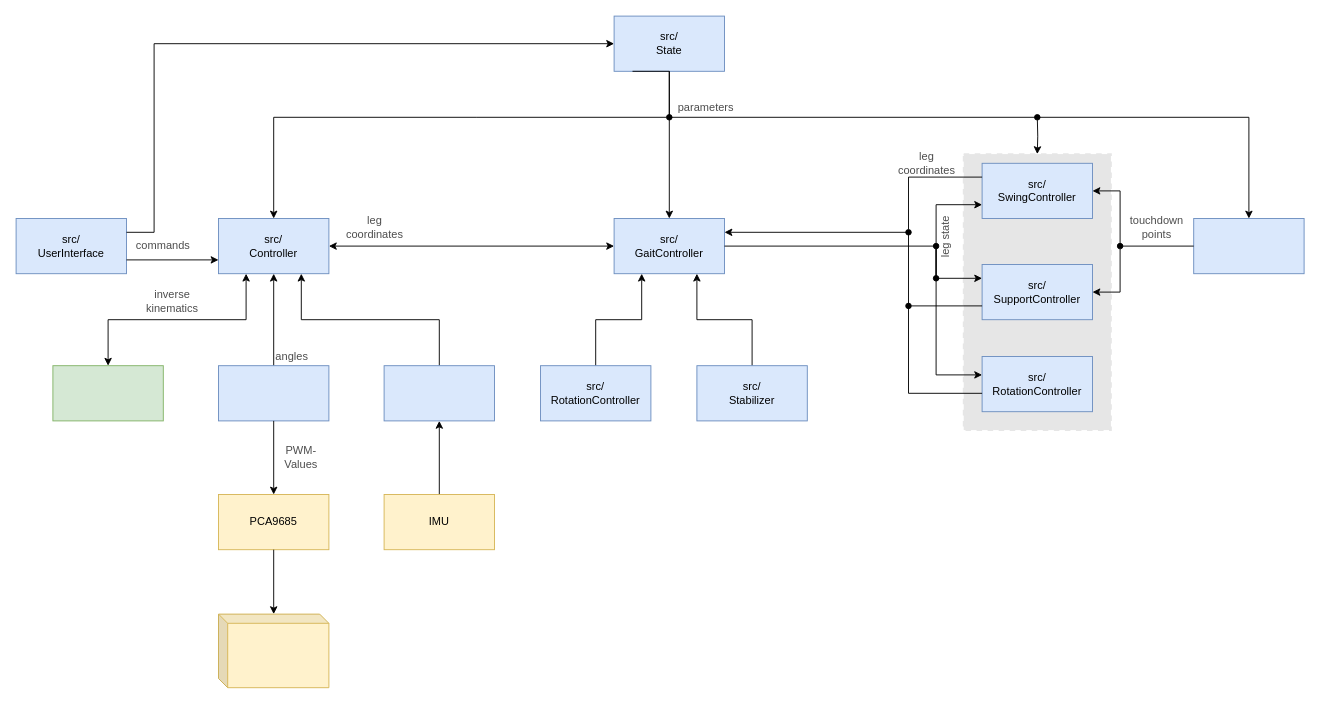
Some shapes in this 1320 by 704 pixel diagram are drawn without their labels. Each missing label, with the centre of its shape:
"Hardware" belongs at (x=273, y=650).
"quaro/ HardwareConfig" belongs at (x=107, y=393).
"src/ Hardware/Interface" belongs at (x=273, y=393).
"src/ InclinationController" belongs at (x=438, y=393).
"src/ TouchdownLocalizer" belongs at (x=1248, y=246).
